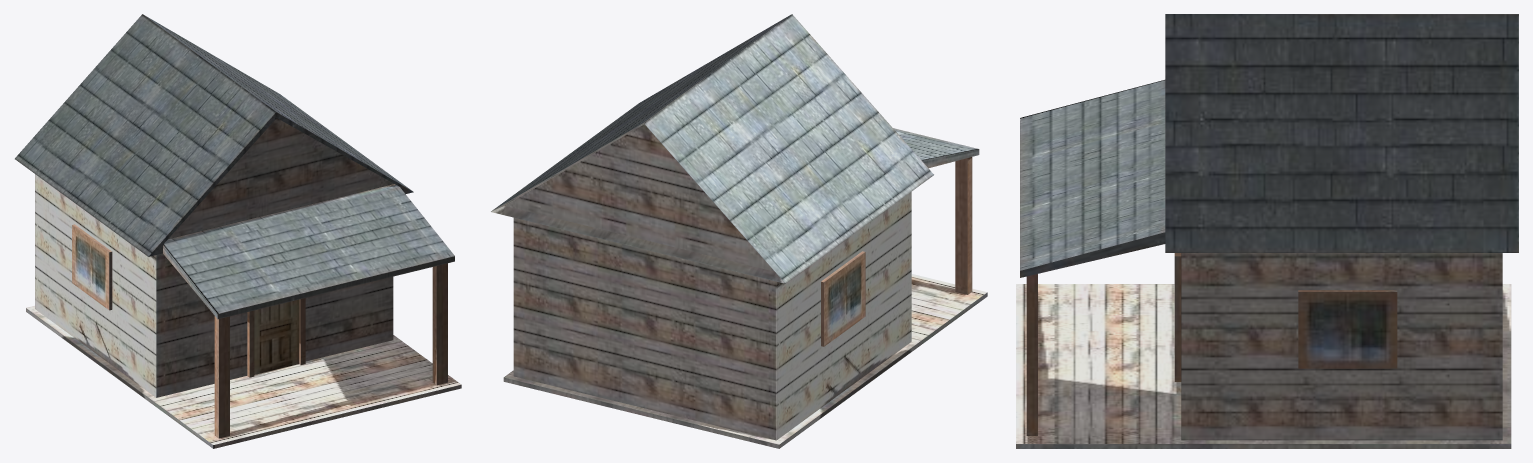
The model's file is Cabana.fbx.
3 renders of one model, left to right at view 1: azimuth 30°, elevation 25°; view 2: azimuth 150°, elevation 25°; view 3: azimuth 270°, elevation 25°, orthographic. The views are drawn at different scales.
Parts seen in each view (by area): view 1: Cabana_00; view 2: Cabana_00; view 3: Cabana_00.
Part boxes in pixels (<box>): Cabana_00: <box>15,14,461,448</box>; Cabana_00: <box>491,14,987,448</box>; Cabana_00: <box>1016,14,1518,448</box>.
Size of the model in its own units: 4.17 by 4 by 5.18.
